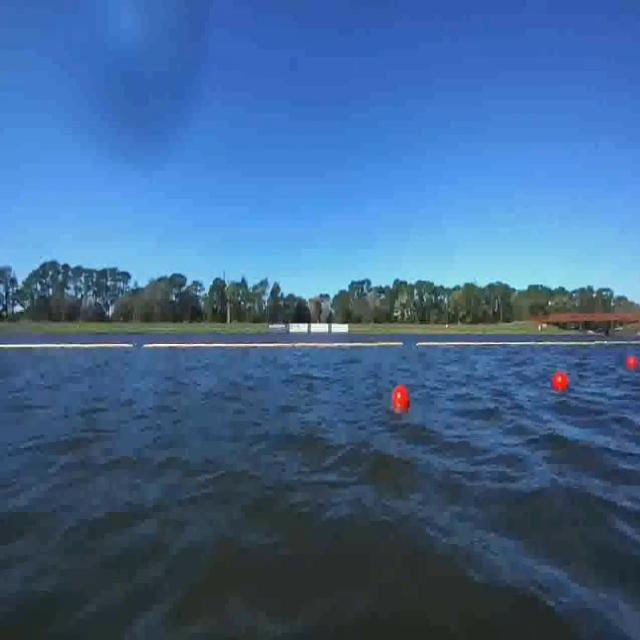red-buoy: (391, 384, 409, 414), (552, 372, 570, 392), (626, 356, 638, 370)
